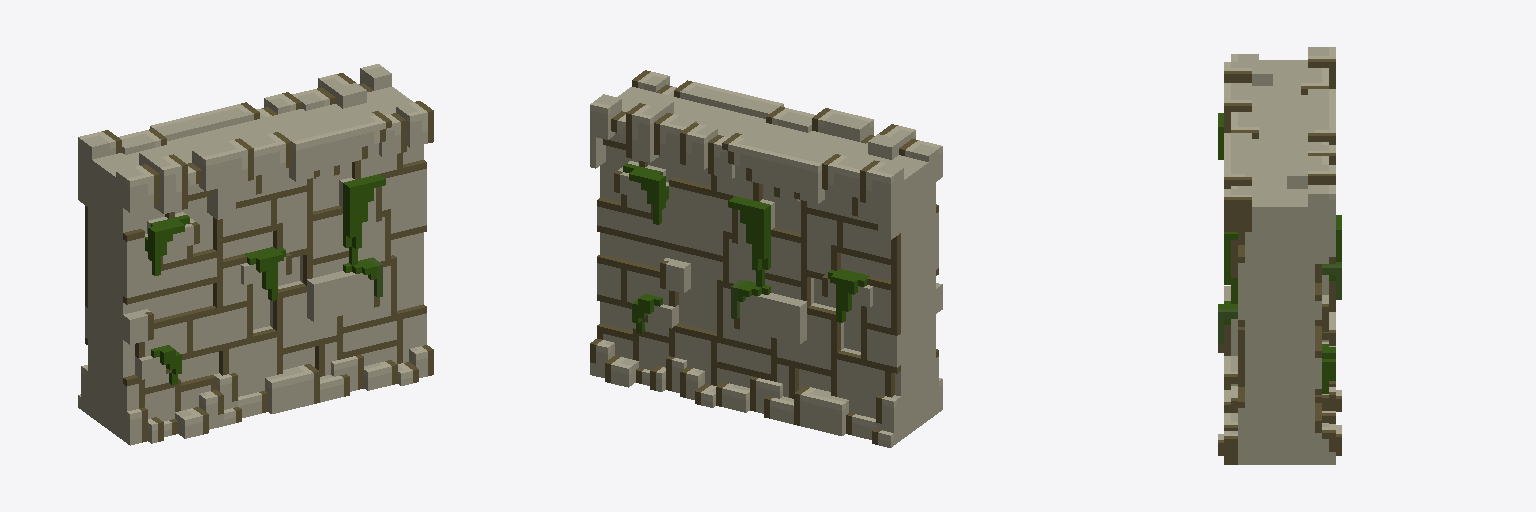
3 views of the same model, side by side, from view 1: azimuth 30°, elevation 25°; view 2: azimuth 150°, elevation 25°; view 3: azimuth 270°, elevation 25° (orthographic).
Visible parts, largest first — view 1: object 1; view 2: object 1; view 3: object 1.
Part boxes in pixels (left/top/right/bottom): object 1: left=78, top=64, right=433, bottom=445; object 1: left=590, top=70, right=942, bottom=447; object 1: left=1218, top=47, right=1341, bottom=464.
Size of the model in its own units: 5 by 4.3 by 1.8.
1 materials, 1 textured.